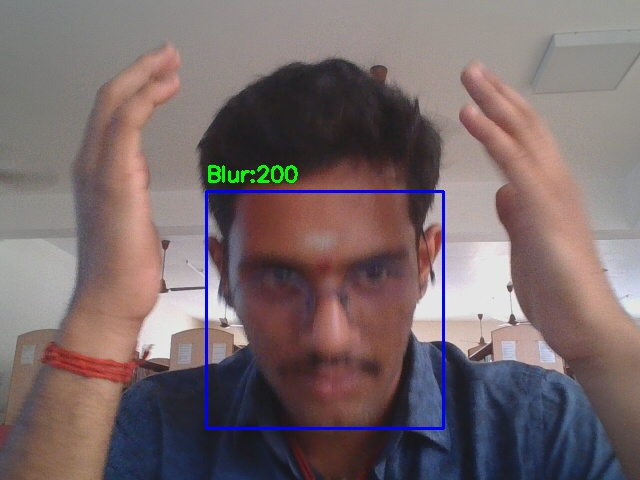real: (206, 191, 443, 428)
